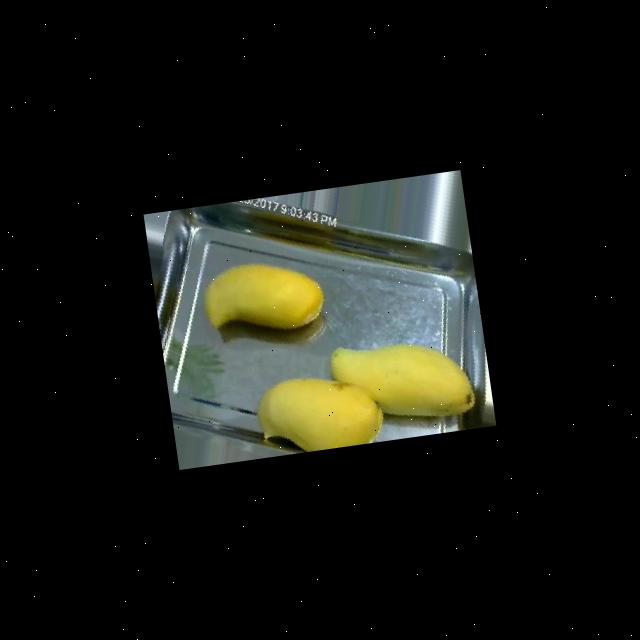Mango: (328, 328, 478, 432), (253, 366, 387, 458), (200, 252, 328, 340)
